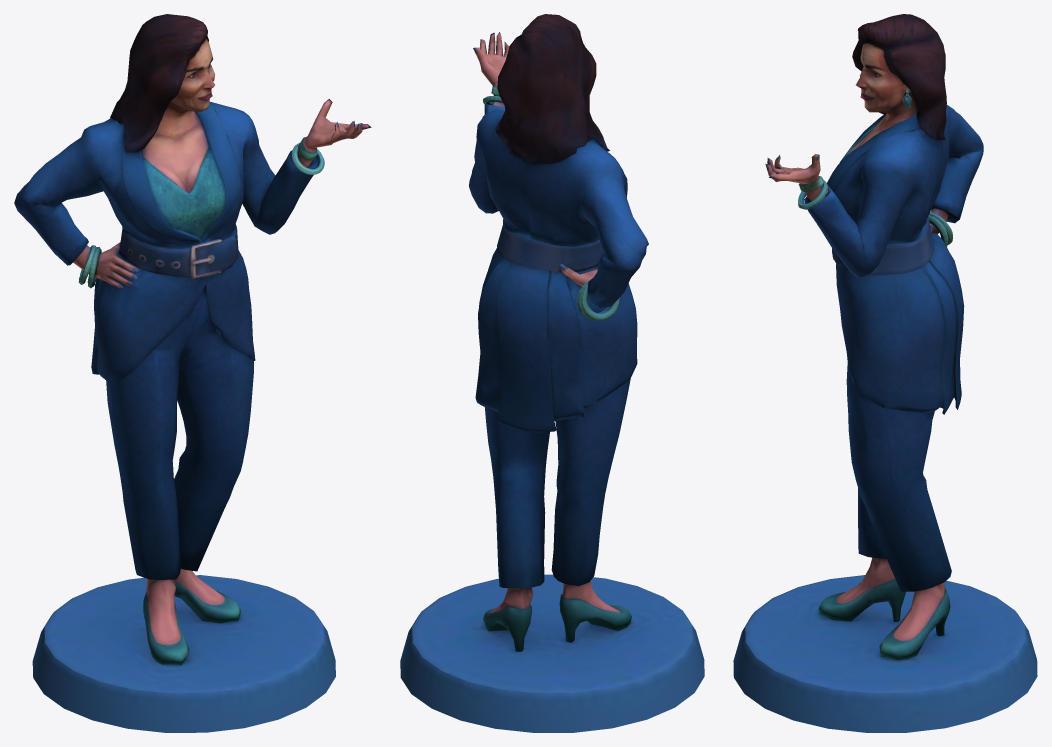
The model's file is azure_alt.obj.
The picture shows the model from 3 angles, left to right: view 1: azimuth 30°, elevation 25°; view 2: azimuth 150°, elevation 25°; view 3: azimuth 270°, elevation 25°; orthographic projection.
Visible parts, largest first — view 1: peacockAlt_0; view 2: peacockAlt_0; view 3: peacockAlt_0.
Boxes of the visible parts, x1=… form: peacockAlt_0: x1=14, y1=14, x2=371, y2=732; peacockAlt_0: x1=400, y1=14, x2=704, y2=732; peacockAlt_0: x1=733, y1=14, x2=1037, y2=732.
Size of the model in its own units: 0.792 by 1.86 by 0.792.
